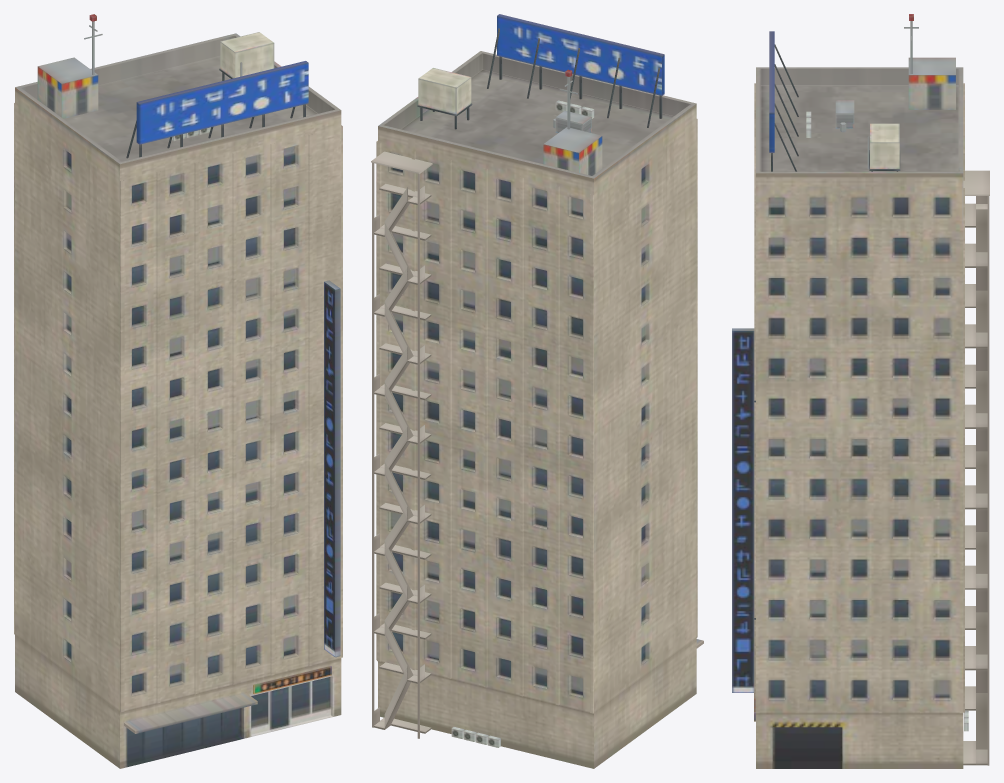
Rendered from tokyo_midrise_e.glb.
The picture shows the model from 3 angles, left to right: view 1: azimuth 30°, elevation 25°; view 2: azimuth 150°, elevation 25°; view 3: azimuth 270°, elevation 25°; orthographic projection. The views are drawn at different scales.
Visible parts, largest first — view 1: tokyo_midrise_e; view 2: tokyo_midrise_e; view 3: tokyo_midrise_e.
Boxes of the visible parts, x1,y1,x2,y2 form: tokyo_midrise_e: [14, 14, 342, 768]; tokyo_midrise_e: [371, 14, 703, 768]; tokyo_midrise_e: [732, 14, 989, 768].
Size of the model in its own units: 17.12 by 50.15 by 17.42.
Materials: 1 (1 with a texture image).
